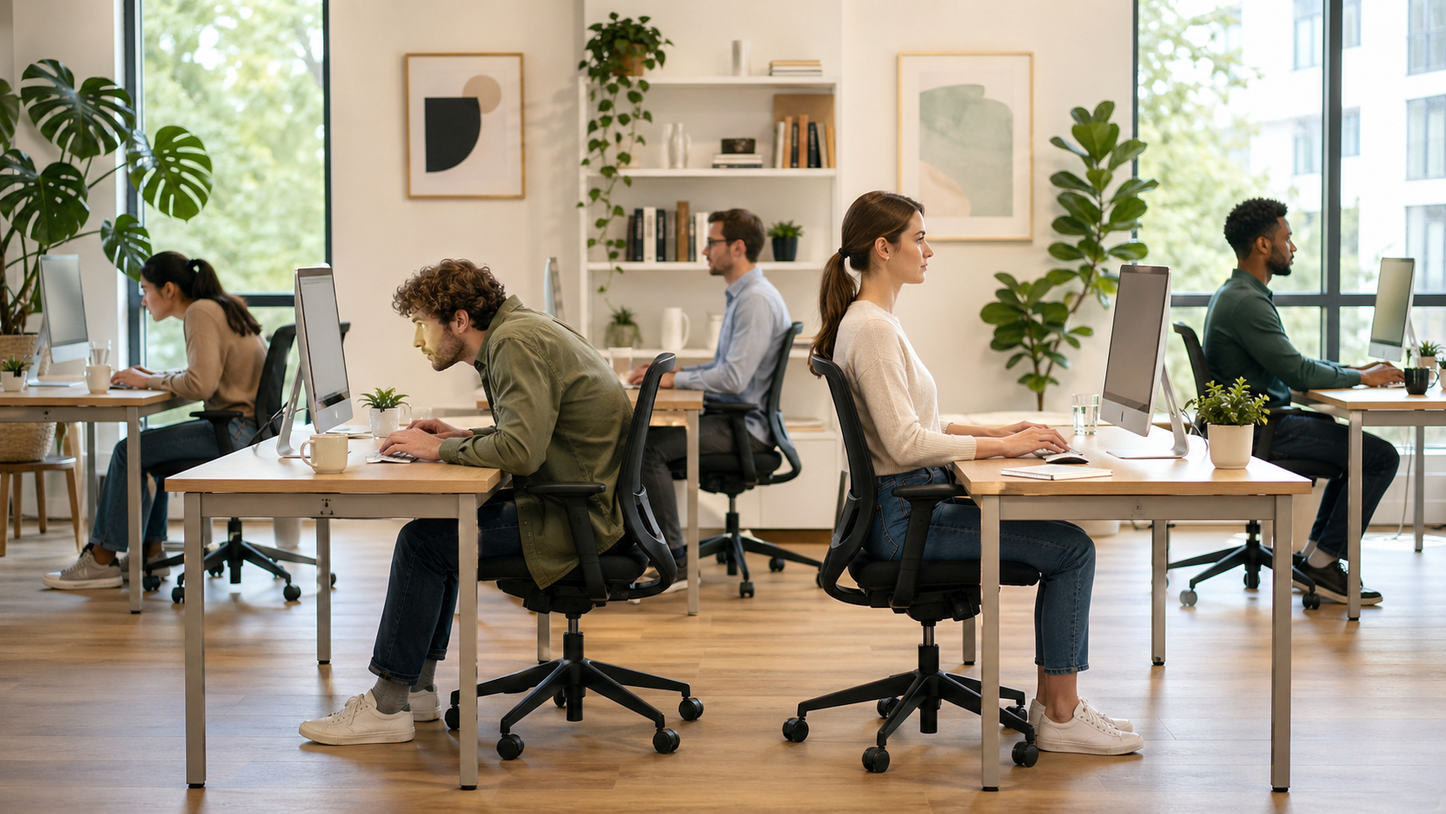sitting_bad: (390, 258, 642, 745), (88, 250, 334, 621)
sitting_good: (808, 183, 1049, 620), (1181, 186, 1398, 490), (644, 191, 809, 527)
